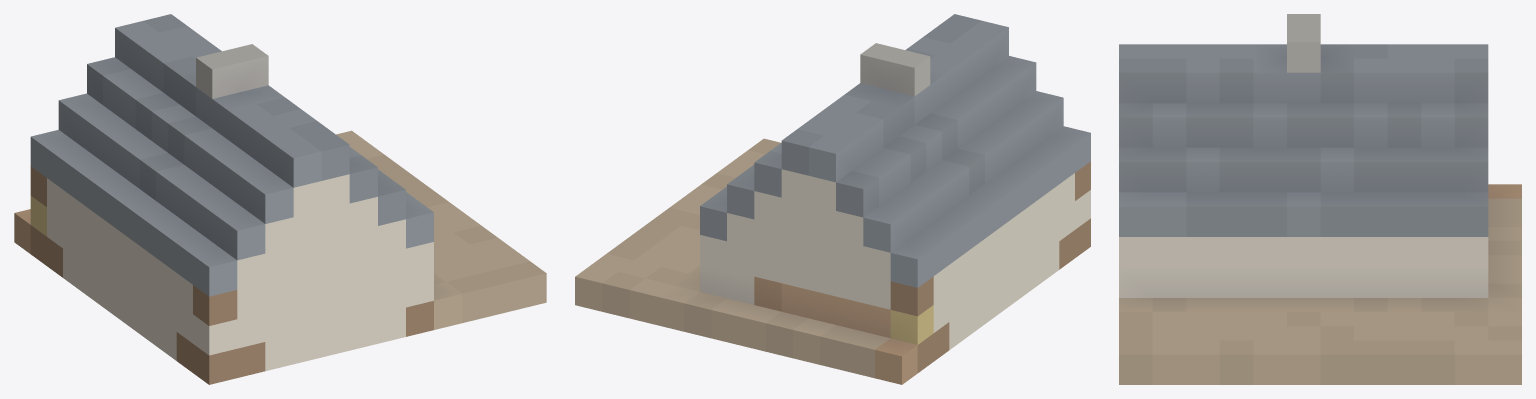
File: oyster_house.lite.glb
3 renders of one model, left to right at view 1: azimuth 30°, elevation 25°; view 2: azimuth 150°, elevation 25°; view 3: azimuth 270°, elevation 25°, orthographic. The views are drawn at different scales.
Parts seen in each view (by area): view 1: oyster_house; view 2: oyster_house; view 3: oyster_house.
Boxes of the visible parts, x1,y1,x2,y2 form: oyster_house: (14, 14, 546, 384); oyster_house: (575, 14, 1090, 384); oyster_house: (1119, 14, 1521, 384).
Size of the model in its own units: 6 by 4 by 6.
